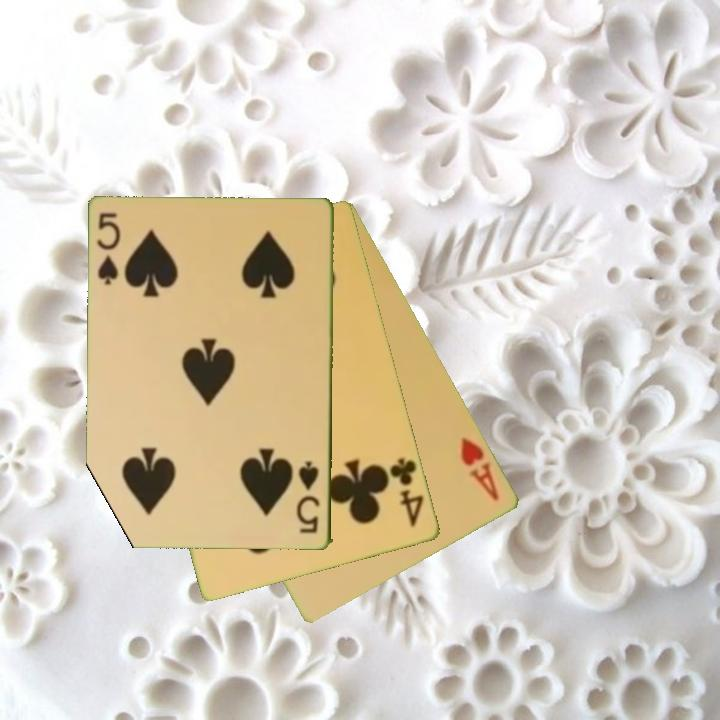4c: (386, 455, 427, 530)
5s: (94, 209, 124, 289), (295, 458, 323, 536)
Ah: (457, 433, 502, 504)
